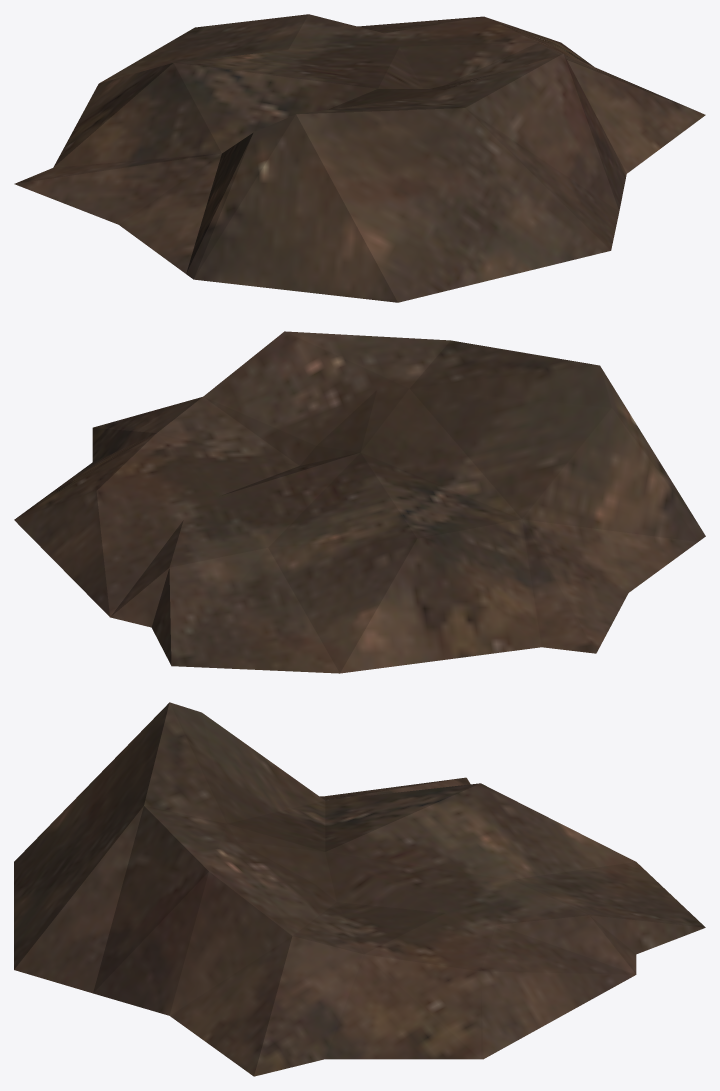
Rendered from mound4.dae.
3 views of the same model, one above another, from view 1: azimuth 30°, elevation 25°; view 2: azimuth 150°, elevation 25°; view 3: azimuth 270°, elevation 25° (orthographic). The views are drawn at different scales.
Visible parts, largest first — view 1: Plane; view 2: Plane; view 3: Plane.
Part boxes in pixels (<box>): Plane: <box>14,14,705,302</box>; Plane: <box>14,331,705,673</box>; Plane: <box>14,702,705,1076</box>.
Bounding box in the file's own units: 6.82 × 6.67 × 1.55.
1 material, 1 textured.
